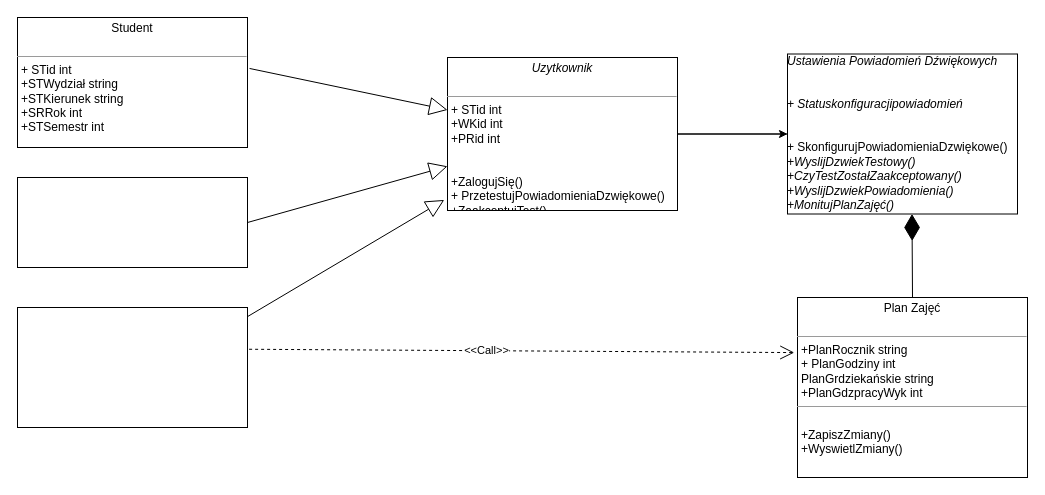
This 1045x495 diagram has some shape labels left out. The shapes that lost their labels are listed below. From the top down, each one's centre as x and y in pixels, then its label:
At (132,222): "Wykładowca +WKid int +WKkatedra String +WKWydział string".
At (132,367): "Pracownik BOS + PRid + PRCzaszmian + PRCozostałozmienione +Wprowadźzmiany()".
